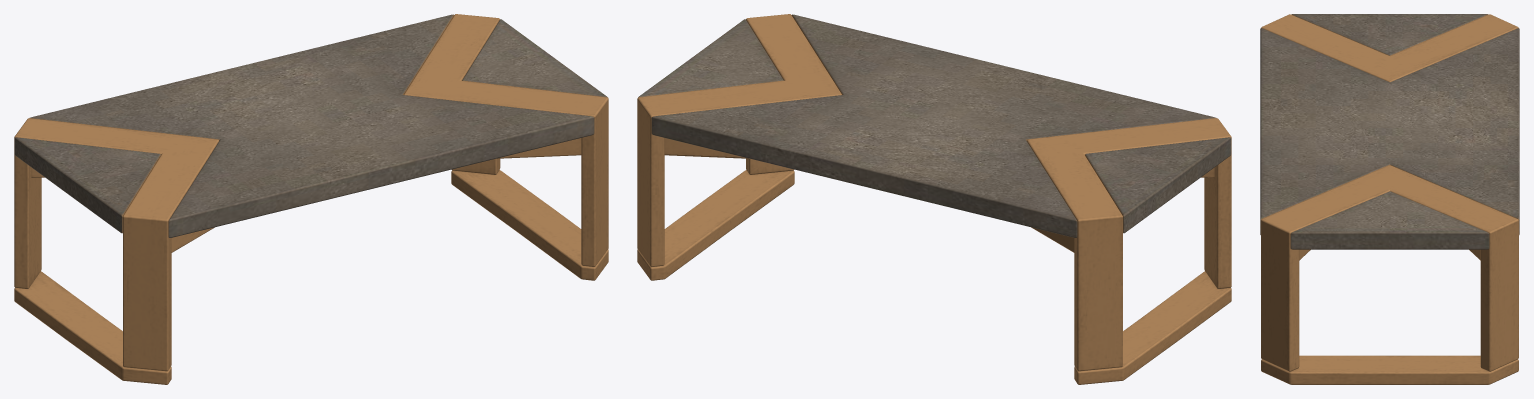
The model's file is coffee-table-modern.glb.
3 views of the same model, side by side, from view 1: azimuth 30°, elevation 25°; view 2: azimuth 150°, elevation 25°; view 3: azimuth 270°, elevation 25° (orthographic). The views are drawn at different scales.
Parts seen in each view (by area): view 1: modern_coffee_table_01; view 2: modern_coffee_table_01; view 3: modern_coffee_table_01.
Part boxes in pixels (x1=…): modern_coffee_table_01: x1=14, y1=14, x2=608, y2=384; modern_coffee_table_01: x1=637, y1=14, x2=1231, y2=384; modern_coffee_table_01: x1=1260, y1=14, x2=1519, y2=384.
Bounding box in the file's own units: 1.2 × 0.39 × 0.6.
Materials: 2 (2 with a texture image).
